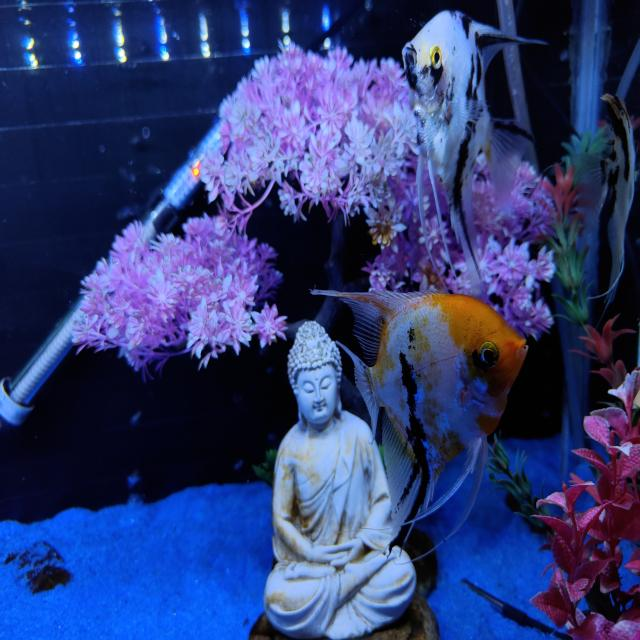Fish: (312, 290, 527, 534), (403, 12, 545, 295), (582, 94, 636, 310)
